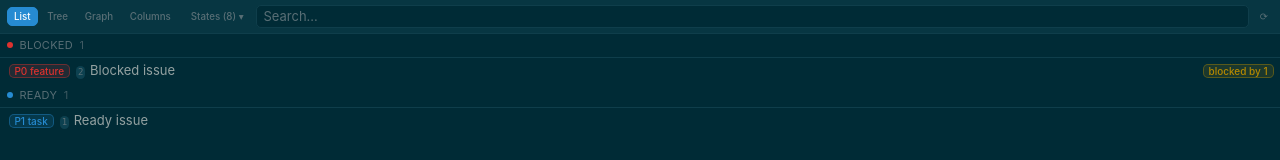
Scenario: BeadsPanel filter › text search filters by id (case-insensitive)
In the field with placeholder "Search…": {"x": 753, "y": 16} [256, 5, 1249, 28], type "bd-2"
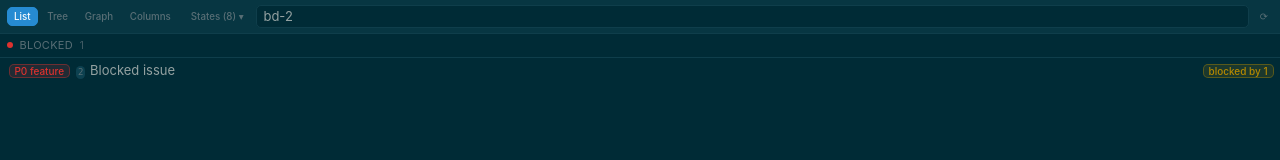
Expected: the text "Blocked issue" is shown, [90, 61, 175, 80]
Result: the text "Ready issue" is gone
